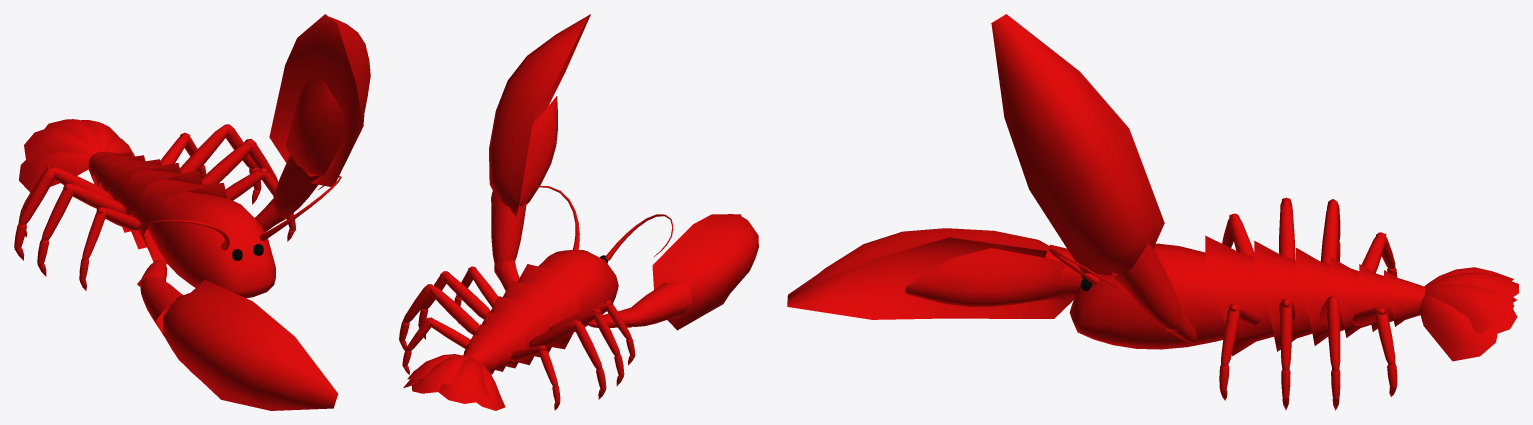
File: lobster_test.fbx
3 renders of one model, left to right at view 1: azimuth 30°, elevation 25°; view 2: azimuth 150°, elevation 25°; view 3: azimuth 270°, elevation 25°, orthographic. The views are drawn at different scales.
Visible parts, largest first — view 1: polySurface10, polySurface8, polySurface3, polySurface4, polySurface1, polySurface6, polySurface2, polySurface7; view 2: polySurface10, polySurface3, polySurface8, polySurface4, polySurface6, polySurface1, polySurface2, polySurface7; view 3: polySurface10, polySurface3, polySurface8, polySurface9, polySurface1, polySurface6.
Part boxes in pixels (x1,y1,x2,y2): polySurface10: [14, 119, 341, 298]; polySurface8: [163, 280, 338, 410]; polySurface3: [269, 14, 370, 186]; polySurface4: [285, 77, 345, 176]; polySurface1: [273, 155, 320, 217]; polySurface6: [140, 276, 183, 335]; polySurface2: [255, 198, 286, 231]; polySurface7: [137, 260, 166, 286]; polySurface10: [399, 185, 673, 410]; polySurface3: [489, 14, 590, 216]; polySurface8: [652, 214, 758, 330]; polySurface4: [519, 96, 557, 206]; polySurface6: [632, 280, 691, 326]; polySurface1: [491, 191, 526, 265]; polySurface2: [494, 260, 519, 290]; polySurface7: [588, 307, 638, 327]; polySurface10: [1049, 197, 1518, 410]; polySurface3: [991, 14, 1164, 275]; polySurface8: [787, 228, 1073, 319]; polySurface9: [905, 248, 1065, 306]; polySurface1: [1112, 242, 1181, 330]; polySurface6: [1045, 244, 1083, 300].
Bounding box in the file's own units: 1.66 × 2.15 × 3.78.
